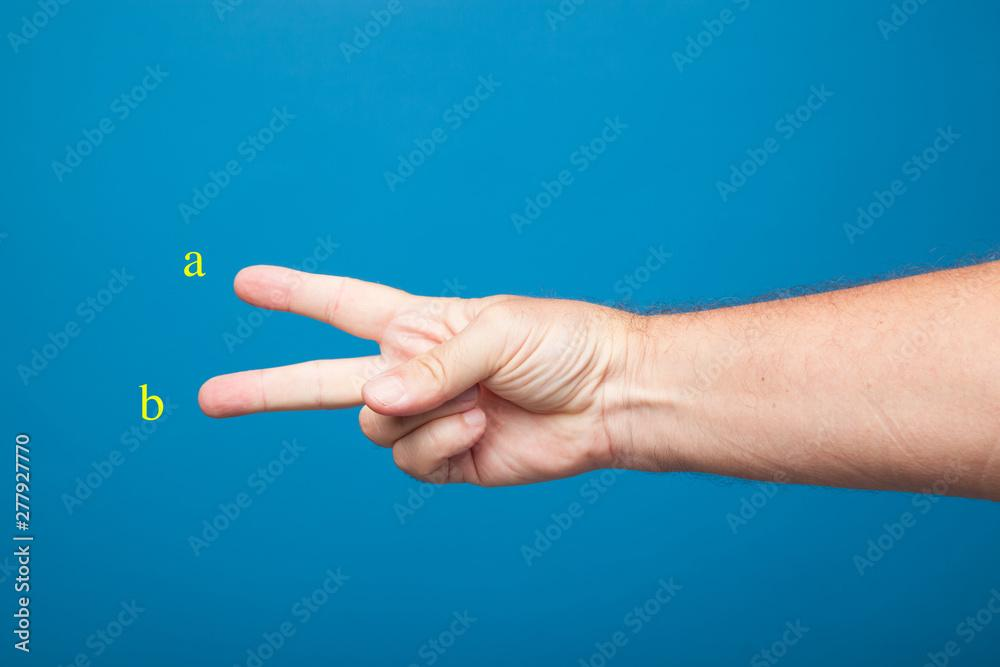peace_sign: (198, 255, 653, 489)
